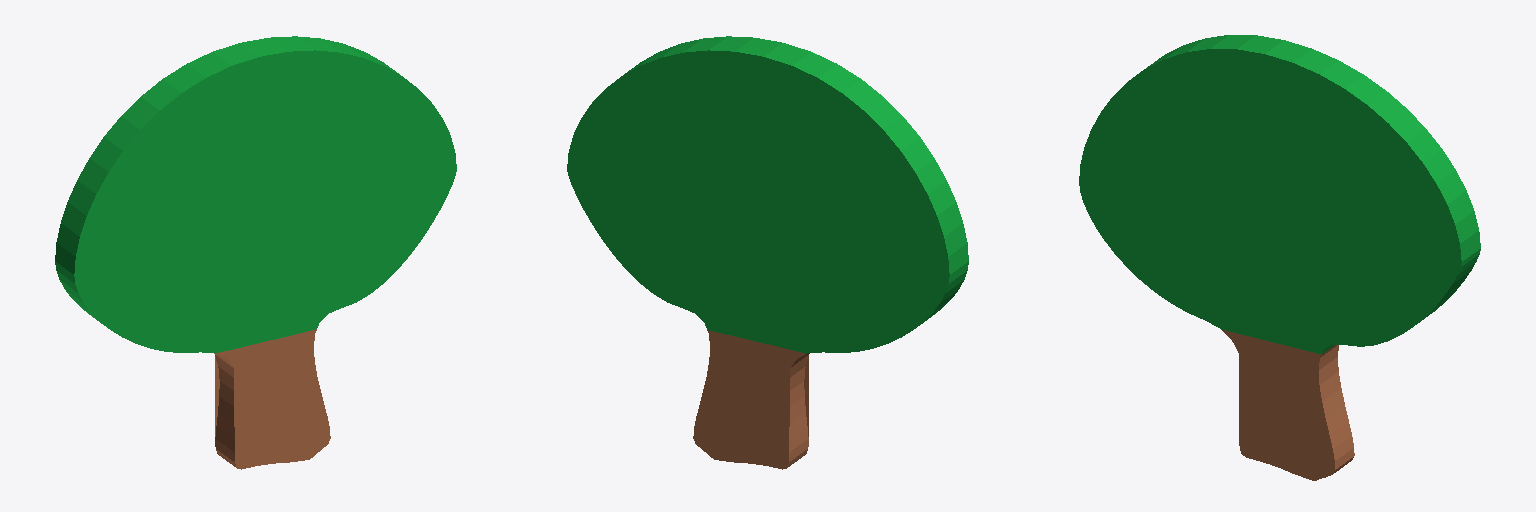
The picture shows the model from 3 angles: view 1: azimuth 30°, elevation 25°; view 2: azimuth 150°, elevation 25°; view 3: azimuth 330°, elevation 25°; orthographic projection.
Parts seen in each view (by area): view 1: path383; view 2: path383; view 3: path383.
Boxes of the visible parts, box(x1,y1,x2,y2) form: path383: box(55, 36, 456, 469); path383: box(567, 36, 968, 469); path383: box(1079, 35, 1480, 480).
Bounding box in the file's own units: 3.44 × 3.56 × 0.3.
1 materials, 1 textured.